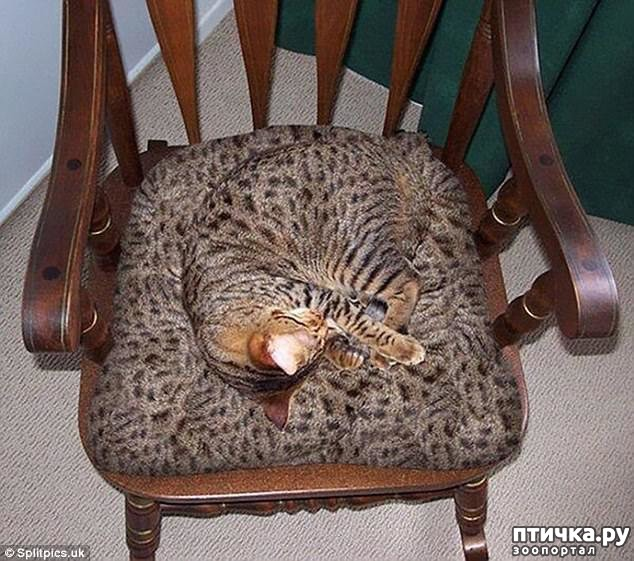cat: (182, 140, 432, 430)
